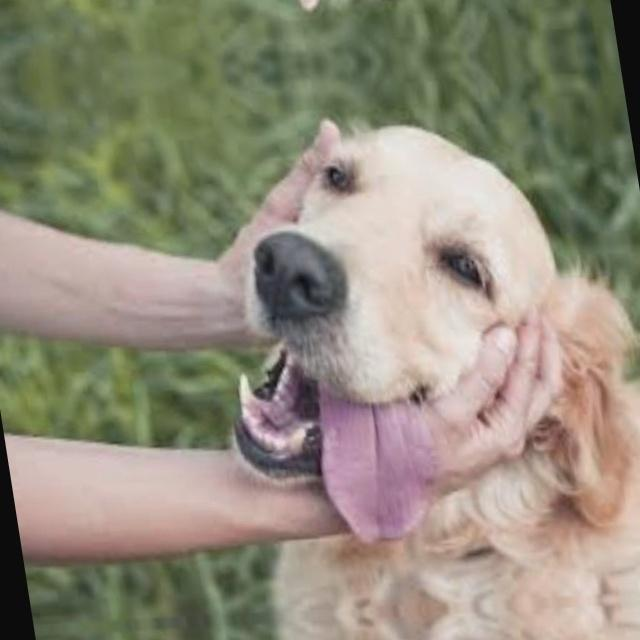dog: (190, 80, 640, 618), (270, 596, 640, 640), (172, 0, 562, 40)
